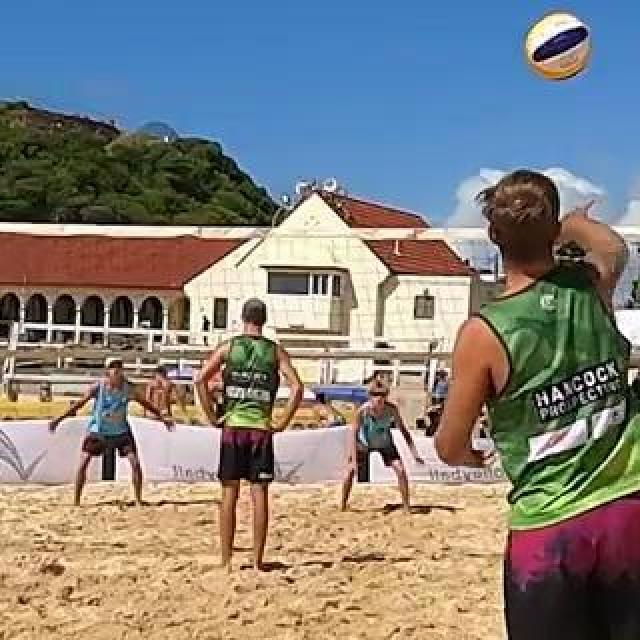volleyball: (525, 13, 589, 79)
